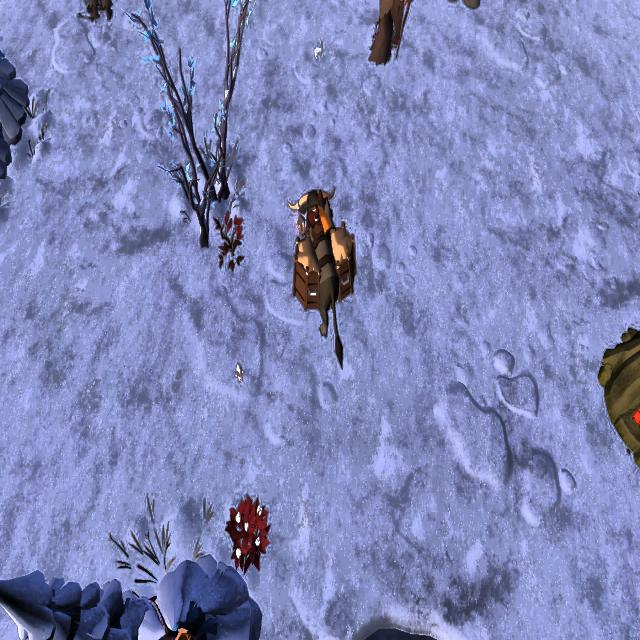enemy_factionKeeper: (372, 0, 414, 81)
fiber_t5: (225, 493, 270, 572)
